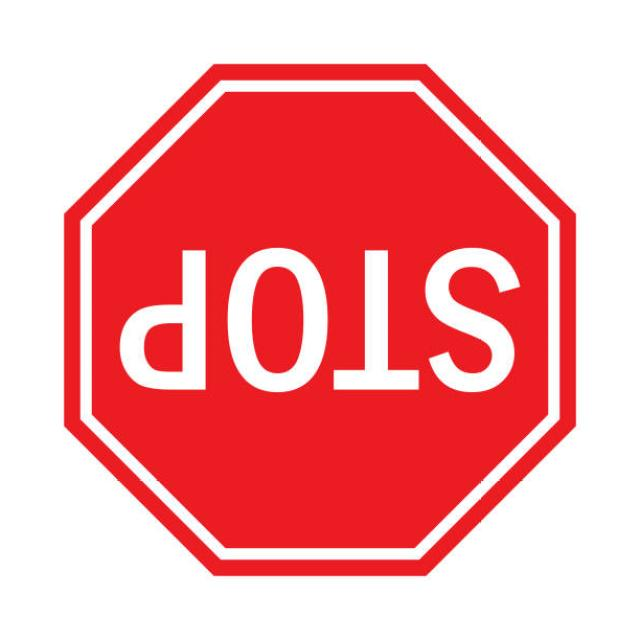Traffic sign: (36, 40, 614, 582)
